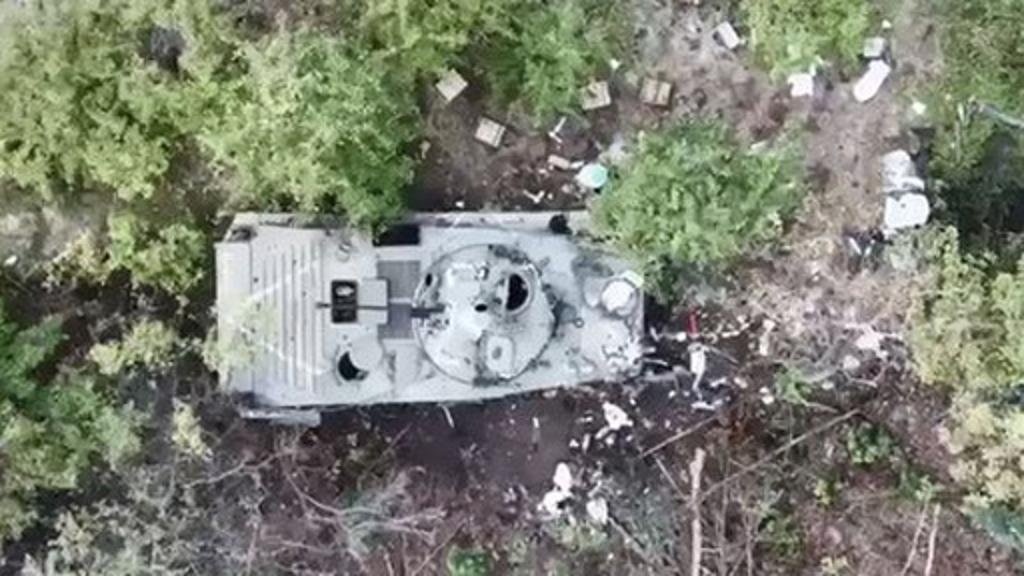APC-IFV: (198, 182, 652, 426)
